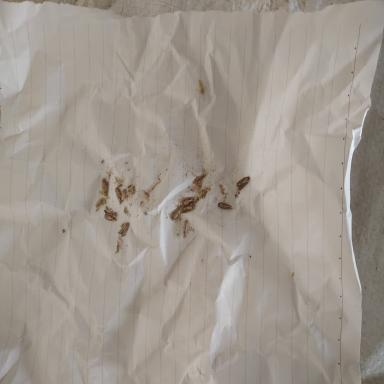pbw: (236, 176, 250, 190), (171, 206, 183, 220), (118, 222, 129, 236), (115, 186, 123, 204), (180, 197, 194, 206), (218, 202, 235, 209), (104, 212, 117, 221), (102, 178, 108, 196), (183, 220, 188, 238), (182, 205, 194, 212), (96, 198, 104, 208)
